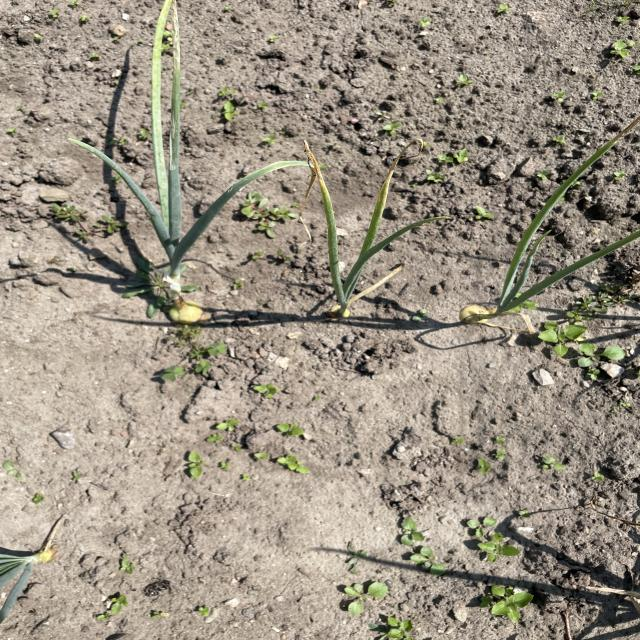Onion: (114, 164, 247, 330), (461, 208, 599, 324), (324, 196, 411, 321), (0, 539, 59, 621)
weed: (538, 315, 626, 381), (158, 334, 230, 395), (390, 512, 454, 578), (462, 511, 527, 564), (238, 193, 299, 240), (268, 418, 309, 483), (474, 581, 538, 618), (214, 85, 266, 121), (334, 580, 388, 614), (182, 448, 218, 487), (375, 612, 420, 640)
